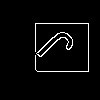J: (27, 26, 78, 76)
